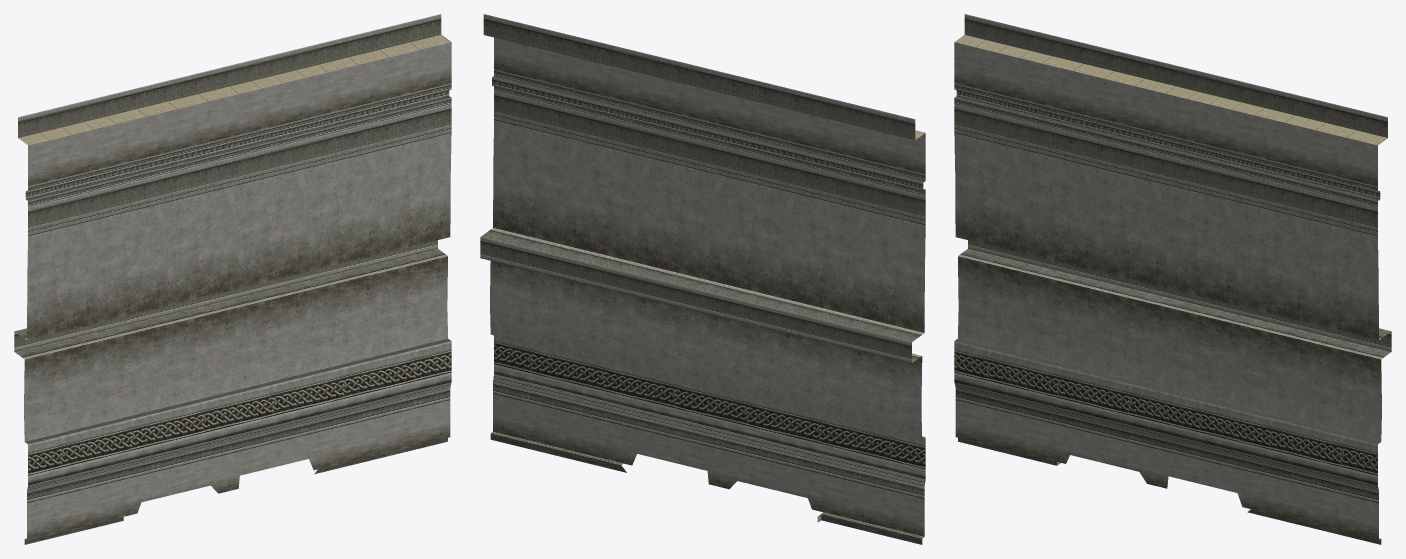
File: DWARF_PALACE_WATER_ROOM_WALL01B02.fbx
The picture shows the model from 3 angles, left to right: view 1: azimuth 30°, elevation 25°; view 2: azimuth 150°, elevation 25°; view 3: azimuth 330°, elevation 25°; orthographic projection.
Parts seen in each view (by area): view 1: DWARF_PALACE_WATER_ROOM_WALL01B02; view 2: DWARF_PALACE_WATER_ROOM_WALL01B02; view 3: DWARF_PALACE_WATER_ROOM_WALL01B02.
Part boxes in pixels (left/top/right/bottom): DWARF_PALACE_WATER_ROOM_WALL01B02: left=14, top=14, right=451, bottom=544; DWARF_PALACE_WATER_ROOM_WALL01B02: left=480, top=14, right=925, bottom=544; DWARF_PALACE_WATER_ROOM_WALL01B02: left=954, top=14, right=1391, bottom=544.
Size of the model in its own units: 214934 by 205000 by 12001.
Materials: 9 (9 with a texture image).
